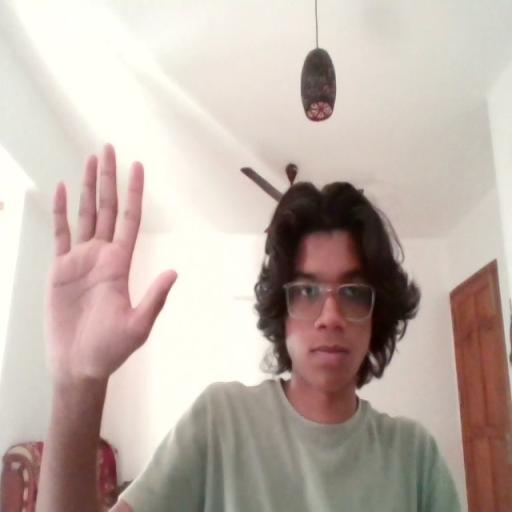Paper: (43, 144, 182, 379)
